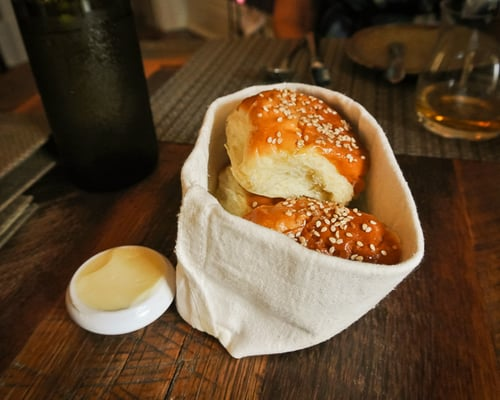pizza: (12, 0, 159, 191), (414, 25, 500, 139)
